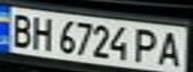2: (90, 20, 112, 60)
4: (109, 24, 133, 61)
6: (54, 17, 78, 55)
7: (72, 19, 93, 56)
A: (154, 28, 187, 67)
B: (3, 10, 36, 48)
H: (27, 14, 57, 52)
P: (130, 26, 163, 64)
